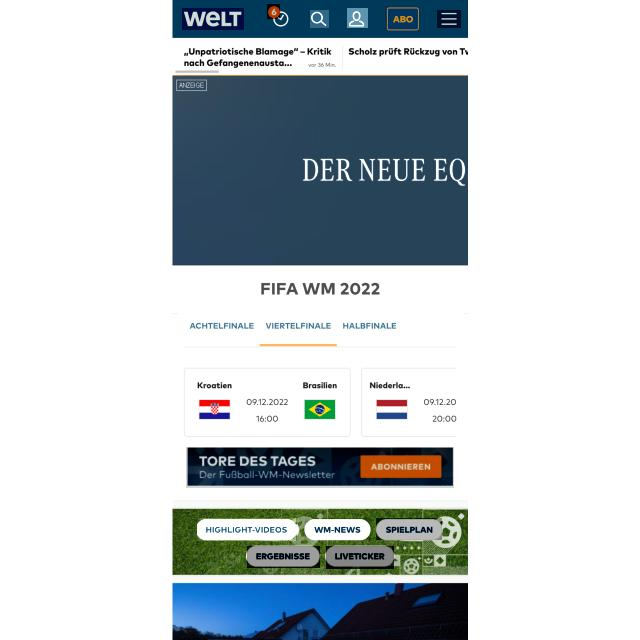ImageView: (173, 76, 469, 265), (186, 448, 454, 490)
RadioButton: (385, 6, 420, 32), (267, 4, 280, 19)
carousel: (347, 8, 368, 28), (310, 10, 329, 28)
date picker: (182, 8, 244, 30)
decoration: (437, 10, 461, 28)
icon: (178, 313, 464, 346)
illustration: (198, 518, 298, 541), (247, 546, 320, 568), (326, 546, 394, 569), (305, 518, 371, 540), (377, 518, 442, 540)
image: (255, 278, 384, 302)
